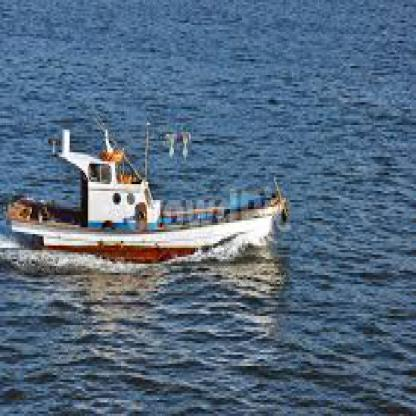fish-b: (0, 107, 301, 282)
